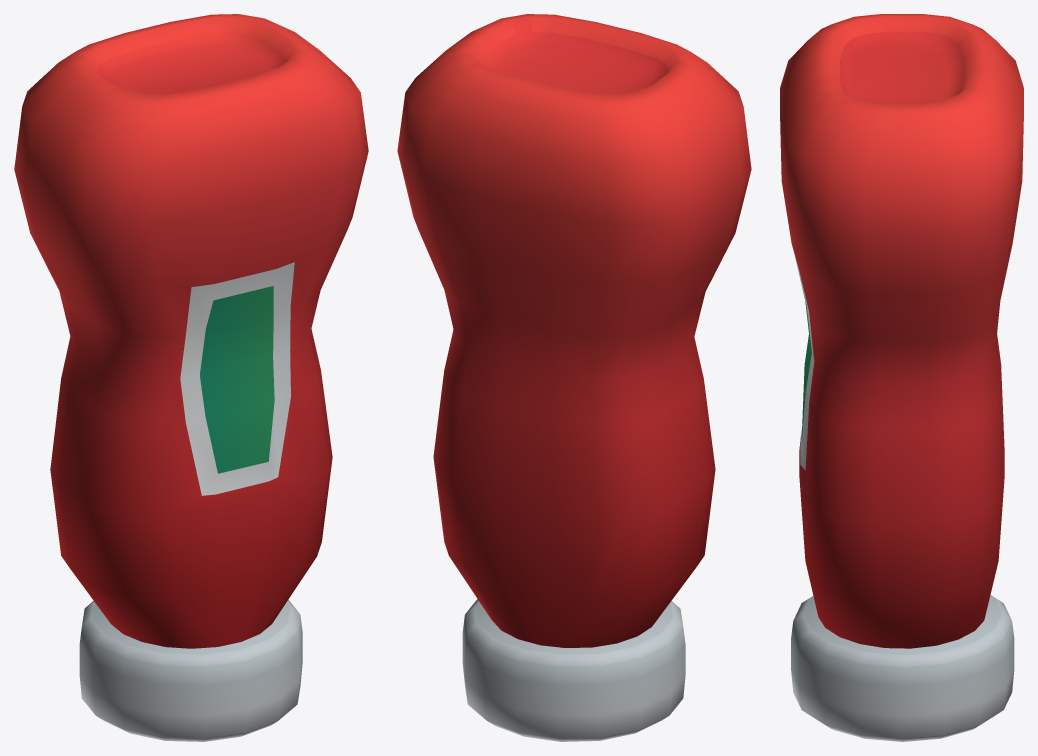
The model's file is sauce_003.fbx.
3 renders of one model, left to right at view 1: azimuth 30°, elevation 25°; view 2: azimuth 150°, elevation 25°; view 3: azimuth 270°, elevation 25°, orthographic.
Parts seen in each view (by area): view 1: sauce_003; view 2: sauce_003; view 3: sauce_003.
Boxes of the visible parts, bbox=[...] form: sauce_003: bbox=[14, 14, 368, 741]; sauce_003: bbox=[397, 14, 751, 741]; sauce_003: bbox=[780, 14, 1023, 741].
Size of the model in its own units: 8.07 by 5.72 by 16.59.
